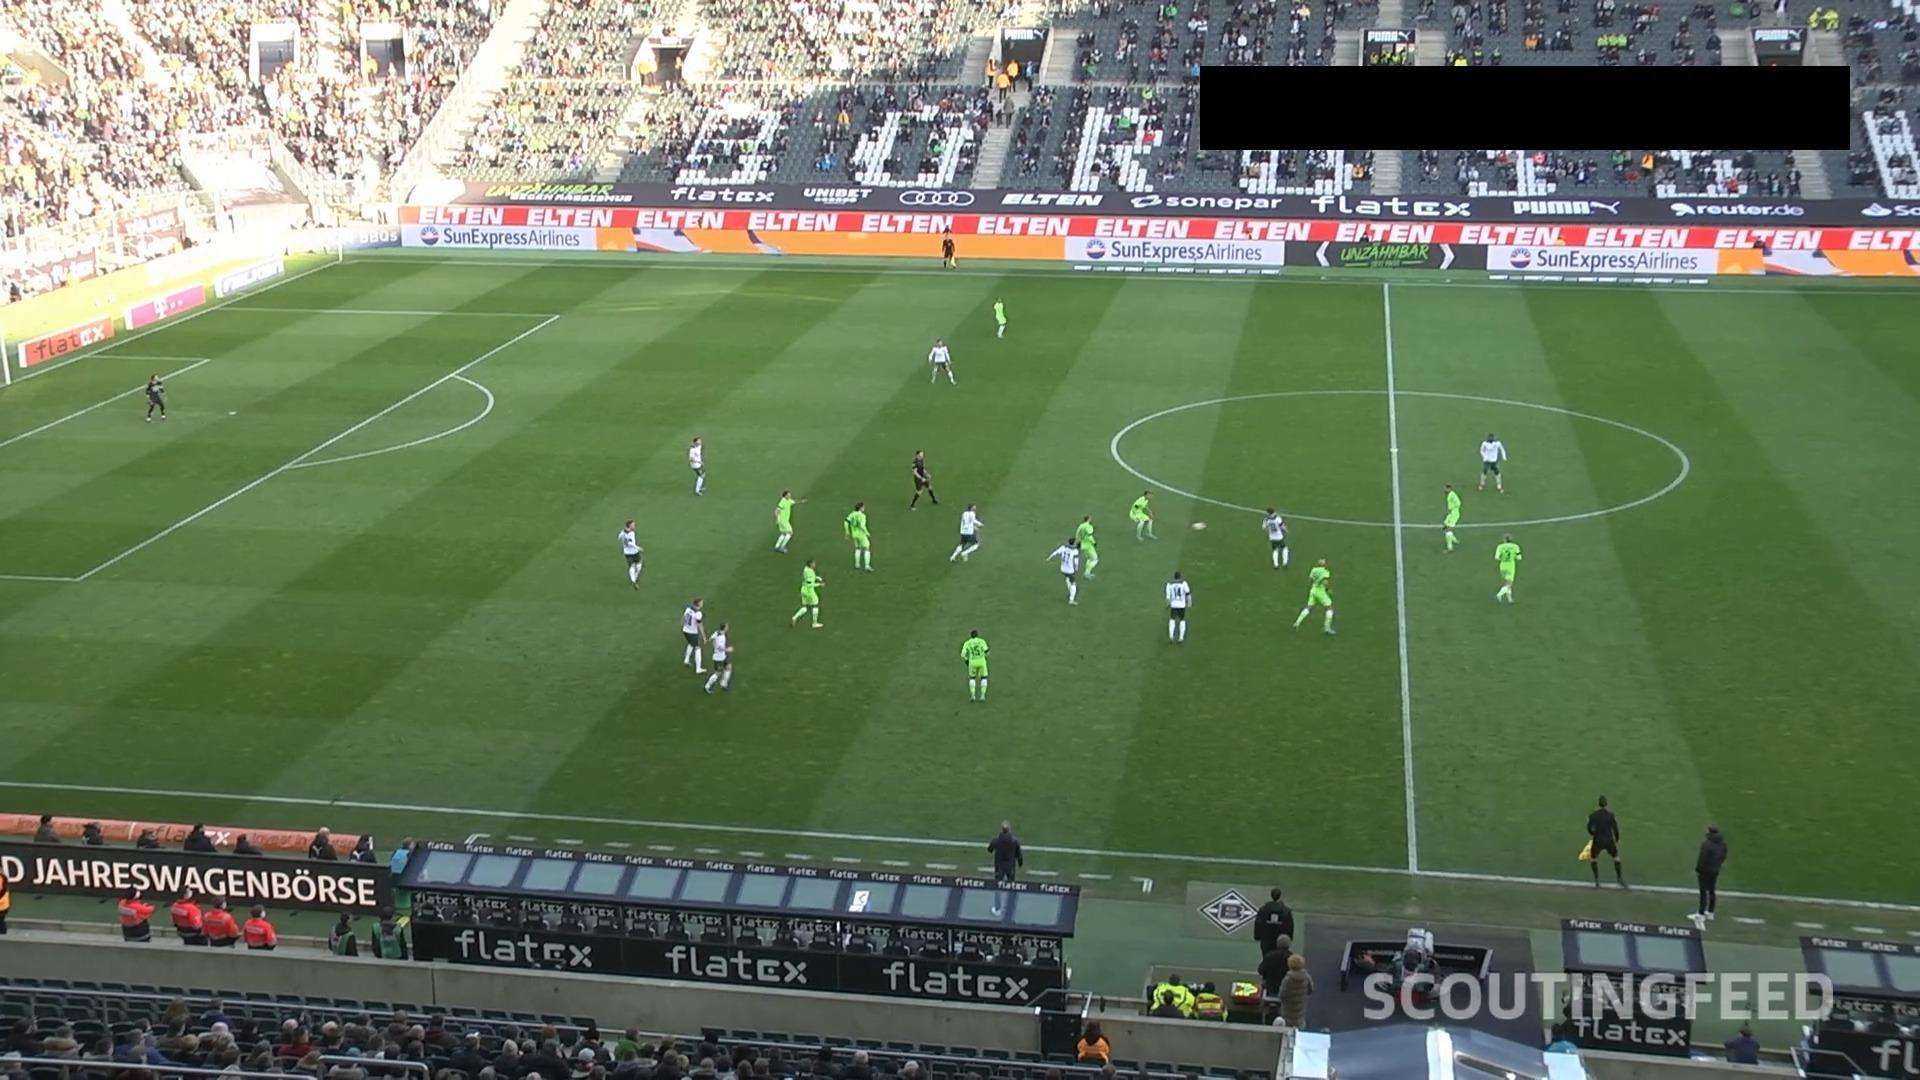ball: (1190, 521, 1206, 530)
coach: (986, 819, 1023, 913), (1694, 823, 1727, 920)
player: (1291, 557, 1336, 634), (788, 557, 825, 628), (1046, 536, 1081, 605), (959, 628, 990, 701), (702, 621, 733, 693), (842, 500, 873, 572), (948, 501, 984, 562), (772, 488, 805, 552), (1493, 532, 1521, 603), (680, 597, 706, 673), (1164, 570, 1191, 643), (617, 518, 643, 589), (1476, 431, 1506, 492), (1261, 506, 1290, 568), (1074, 513, 1099, 578), (1129, 489, 1157, 541), (926, 337, 956, 384), (1441, 482, 1461, 552), (687, 435, 707, 495), (143, 372, 167, 422), (992, 297, 1007, 338)
referee: (1582, 794, 1626, 889), (1256, 932, 1293, 1022), (1252, 886, 1294, 961), (908, 448, 937, 511), (940, 231, 957, 268)
